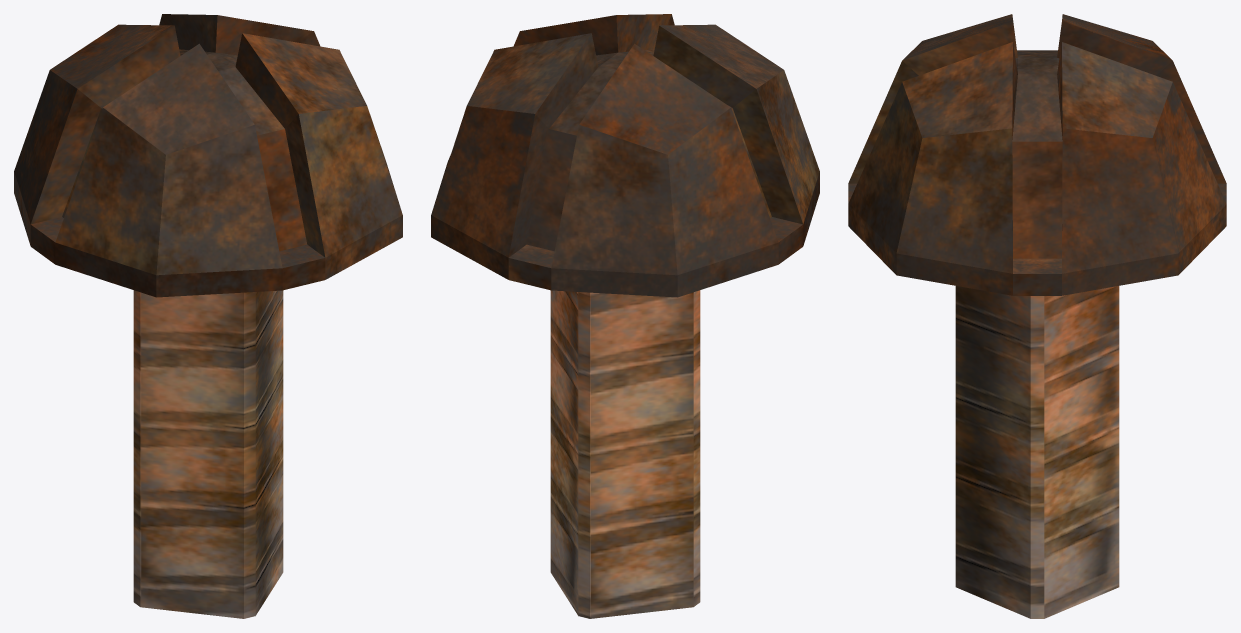
Rendered from phillips_screw.fbx.
3 renders of one model, left to right at view 1: azimuth 30°, elevation 25°; view 2: azimuth 150°, elevation 25°; view 3: azimuth 270°, elevation 25°, orthographic.
Visible parts, largest first — view 1: phillips_screw.001; view 2: phillips_screw.001; view 3: phillips_screw.001.
Part boxes in pixels (x1,y1,x2,y2): phillips_screw.001: (14,14,402,618); phillips_screw.001: (431,14,819,618); phillips_screw.001: (848,14,1226,618).
Bounding box in the file's own units: 163 × 263 × 163.
1 material, 1 textured.
